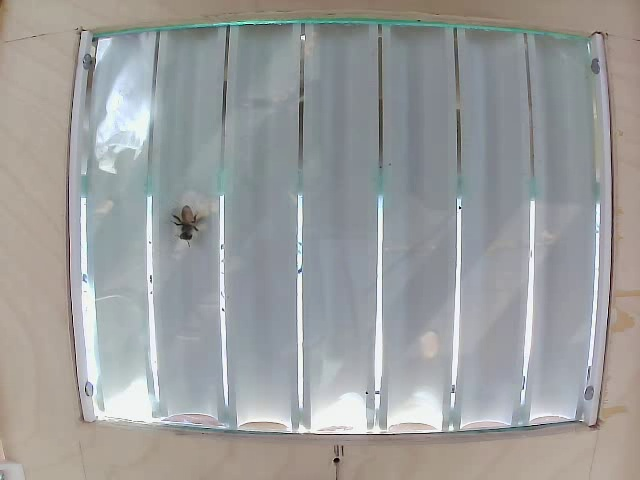bee: (168, 207, 206, 245)
